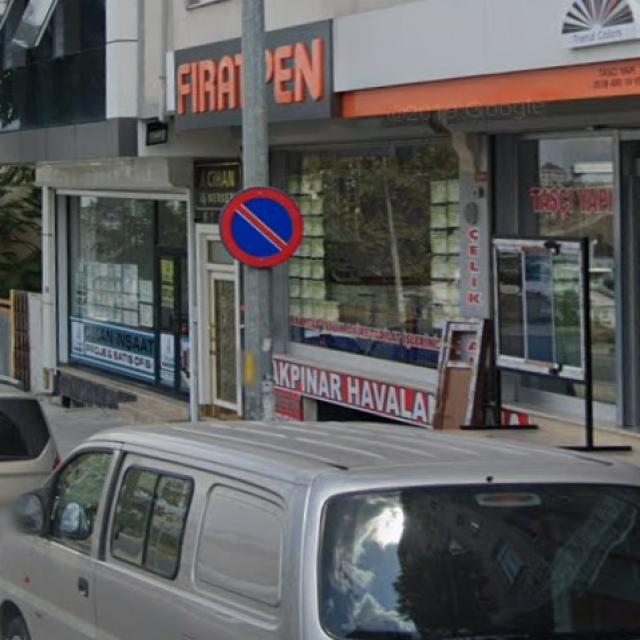parkyasak: (221, 186, 303, 268)
